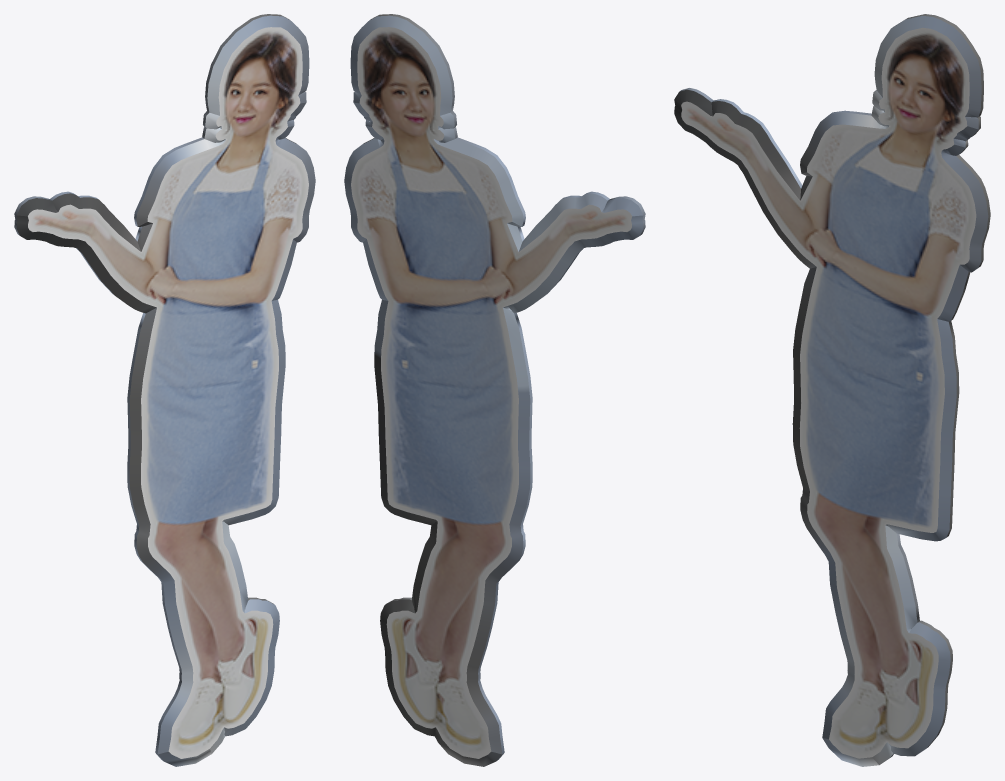
Rendered from panel_hyeri2.FBX.
The picture shows the model from 3 angles, left to right: view 1: azimuth 30°, elevation 25°; view 2: azimuth 150°, elevation 25°; view 3: azimuth 330°, elevation 25°; orthographic projection. The views are drawn at different scales.
Parts seen in each view (by area): view 1: panel_hyeri2; view 2: panel_hyeri2; view 3: panel_hyeri2.
Part boxes in pixels (bbox=[...]): panel_hyeri2: bbox=[14, 14, 315, 766]; panel_hyeri2: bbox=[344, 14, 645, 766]; panel_hyeri2: bbox=[674, 14, 990, 766].
Bounding box in the file's own units: 96.41 × 225 × 3.9.
